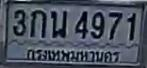1: (126, 12, 135, 40)
3: (12, 9, 25, 35)
4: (74, 10, 87, 38)
7: (108, 11, 122, 39)
9: (90, 11, 104, 38)
A01: (30, 9, 46, 37)
A25: (50, 10, 66, 37)
BKK: (25, 46, 121, 64)
